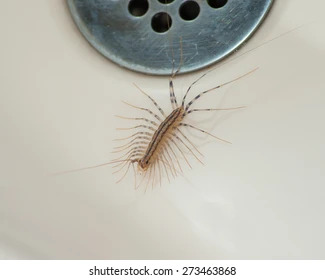centipede: (99, 50, 238, 196)
